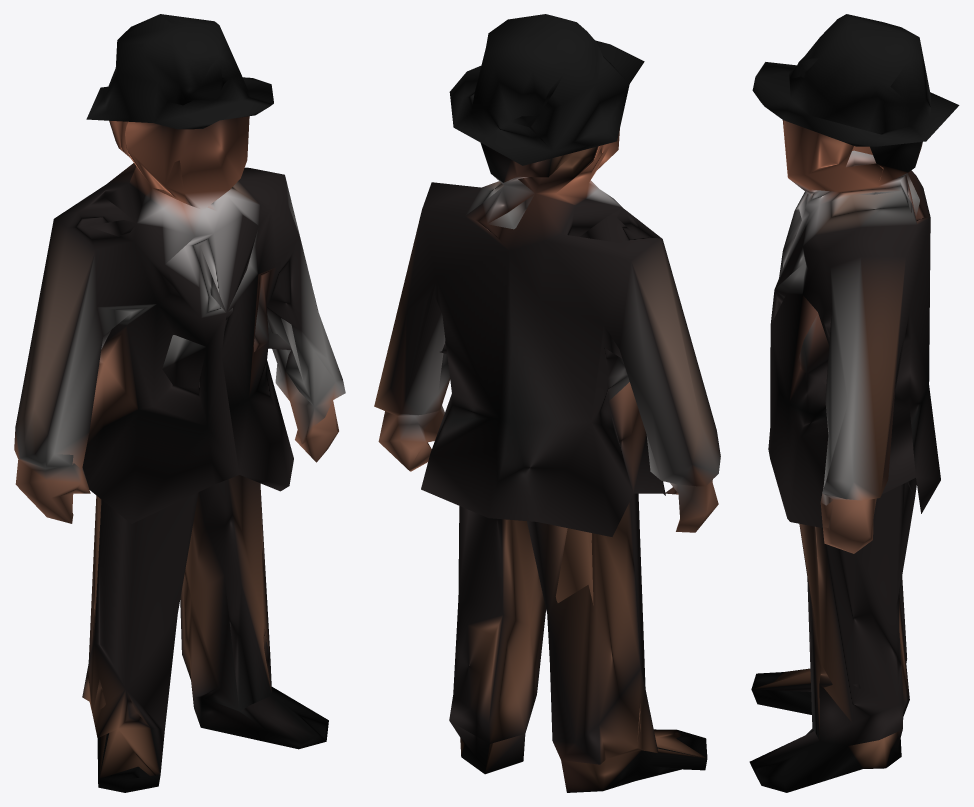
The model's file is gen3d-detective-lod1.glb.
3 views of the same model, side by side, from view 1: azimuth 30°, elevation 25°; view 2: azimuth 150°, elevation 25°; view 3: azimuth 270°, elevation 25° (orthographic). The views are drawn at different scales.
Parts seen in each view (by area): view 1: part_0; view 2: part_0; view 3: part_0.
Boxes of the visible parts, x1=… form: part_0: x1=14, y1=14, x2=345, y2=792; part_0: x1=374, y1=14, x2=720, y2=792; part_0: x1=749, y1=14, x2=959, y2=792.
Bounding box in the file's own units: 0.4681 × 0.9984 × 0.2651.
